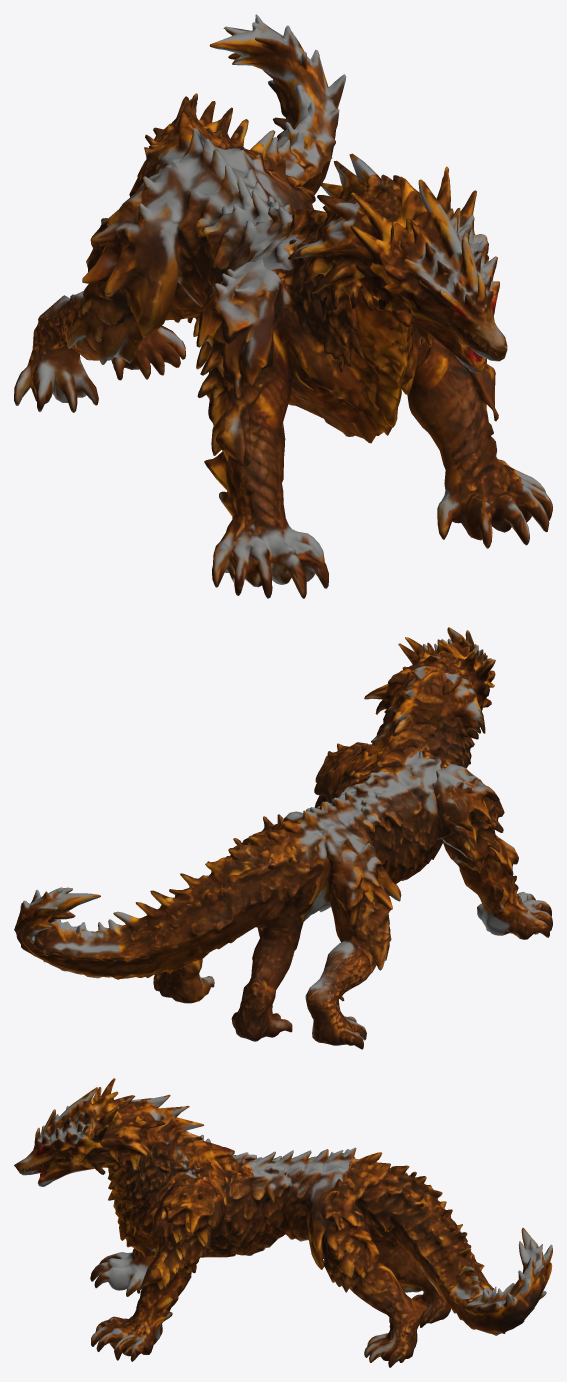
Rendered from basilisco.glb.
3 renders of one model, top to bottom at view 1: azimuth 30°, elevation 25°; view 2: azimuth 150°, elevation 25°; view 3: azimuth 270°, elevation 25°, orthographic. The views are drawn at different scales.
Visible parts, largest first — view 1: tripo_node_992e3df4-32d7-4e27-9259-9841658ef144; view 2: tripo_node_992e3df4-32d7-4e27-9259-9841658ef144; view 3: tripo_node_992e3df4-32d7-4e27-9259-9841658ef144.
Boxes of the visible parts, x1,y1,x2,y2 form: tripo_node_992e3df4-32d7-4e27-9259-9841658ef144: (14, 14, 552, 598); tripo_node_992e3df4-32d7-4e27-9259-9841658ef144: (14, 627, 552, 1049); tripo_node_992e3df4-32d7-4e27-9259-9841658ef144: (14, 1078, 552, 1367).
Bounding box in the file's own units: 0.5701 × 0.475 × 0.9994.
Materials: 1 (1 with a texture image).
